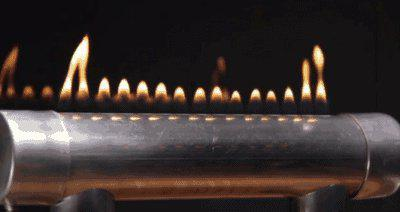fire: (58, 31, 93, 104), (312, 41, 334, 110), (296, 55, 314, 113), (280, 83, 298, 114), (95, 73, 112, 104), (135, 78, 151, 108), (209, 82, 225, 112), (117, 75, 132, 105), (154, 78, 170, 106), (192, 80, 207, 109), (247, 83, 263, 110), (264, 84, 279, 109), (173, 80, 187, 106), (230, 84, 243, 108)
